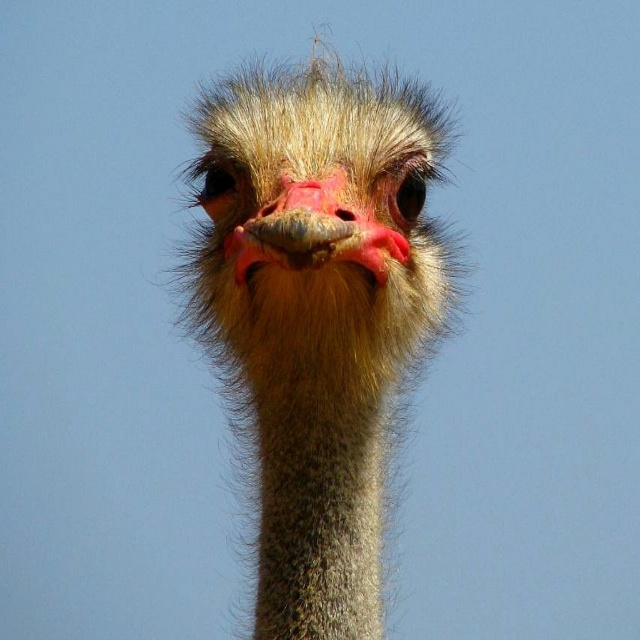Ostrich: (163, 51, 468, 633)
